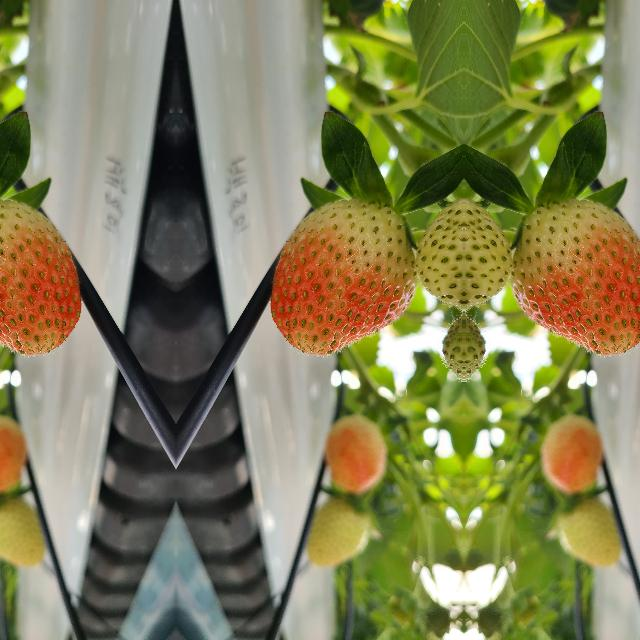Health_25: (413, 198, 462, 308), (463, 198, 512, 308)
Health_50: (268, 198, 416, 358), (510, 198, 640, 358), (0, 198, 82, 358)
